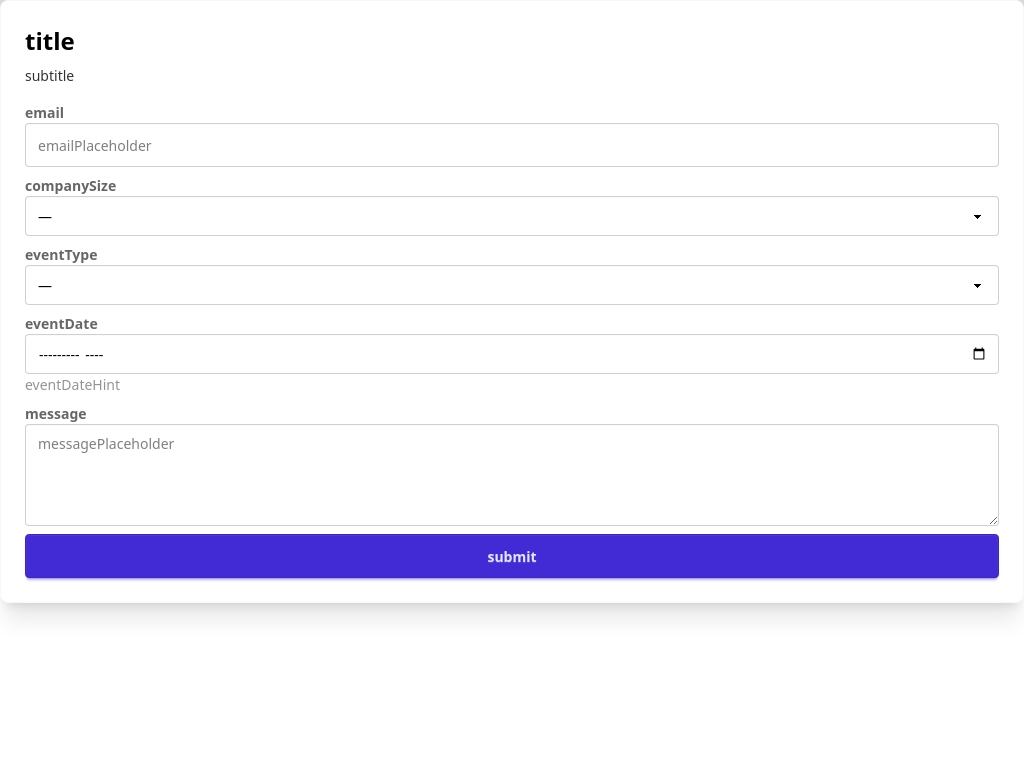
it: B2BLeadForm › shows a field error when the server rejects a missing email
Type "alice@corp.com" into the field with placeholder "emailPlaceholder". click: (512, 145)
box: [25,123,999,167]
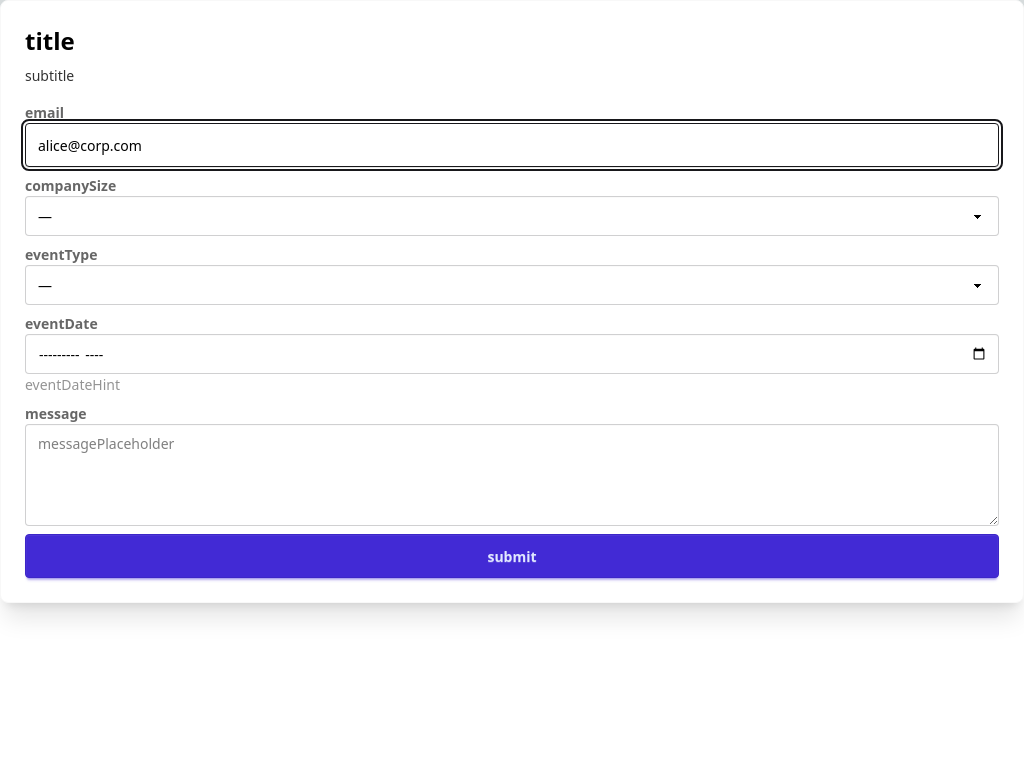
Select "companySizes.s3" in the dropdown labelled "companySize". click: (512, 216)
box: [25,196,999,236]
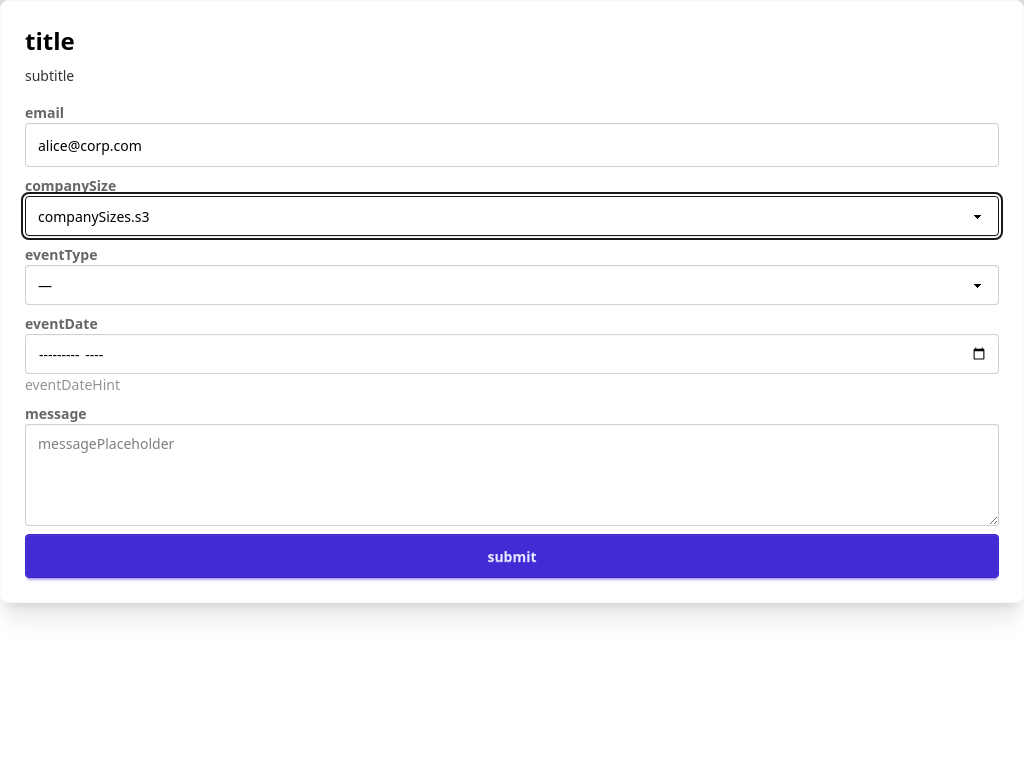
Select "eventTypes.seminar" in the dropdown labelled "eventType". click: (512, 285)
box: [25,265,999,305]
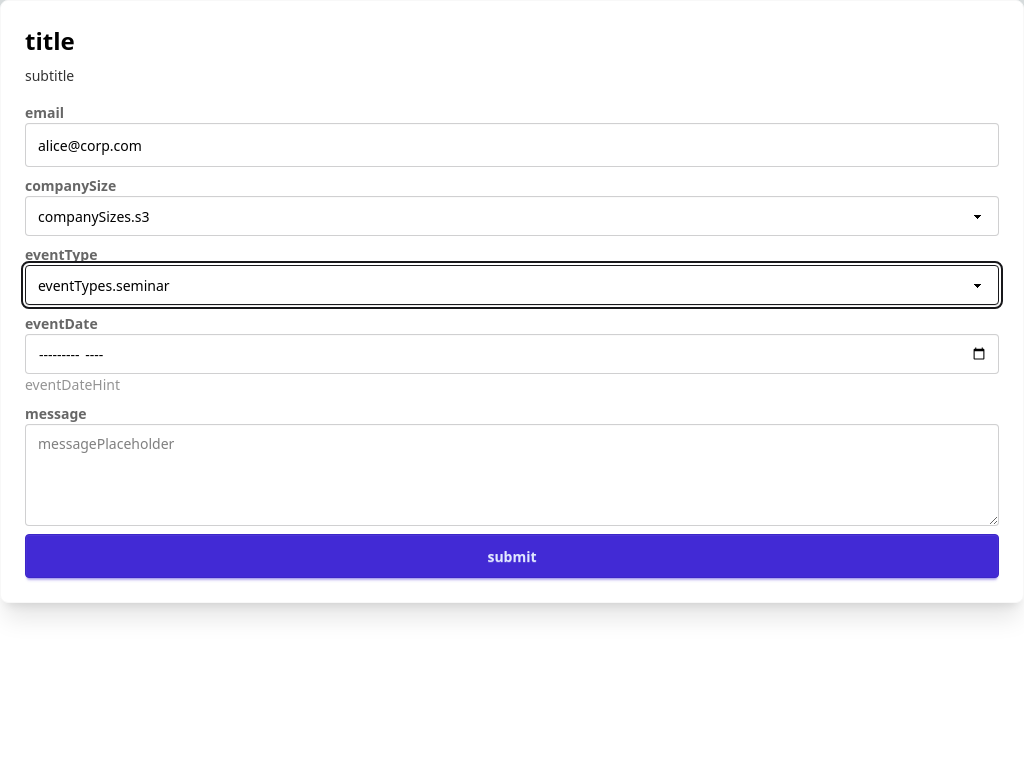
Click the button "submit". click: (512, 556)
box: [25,534,999,578]
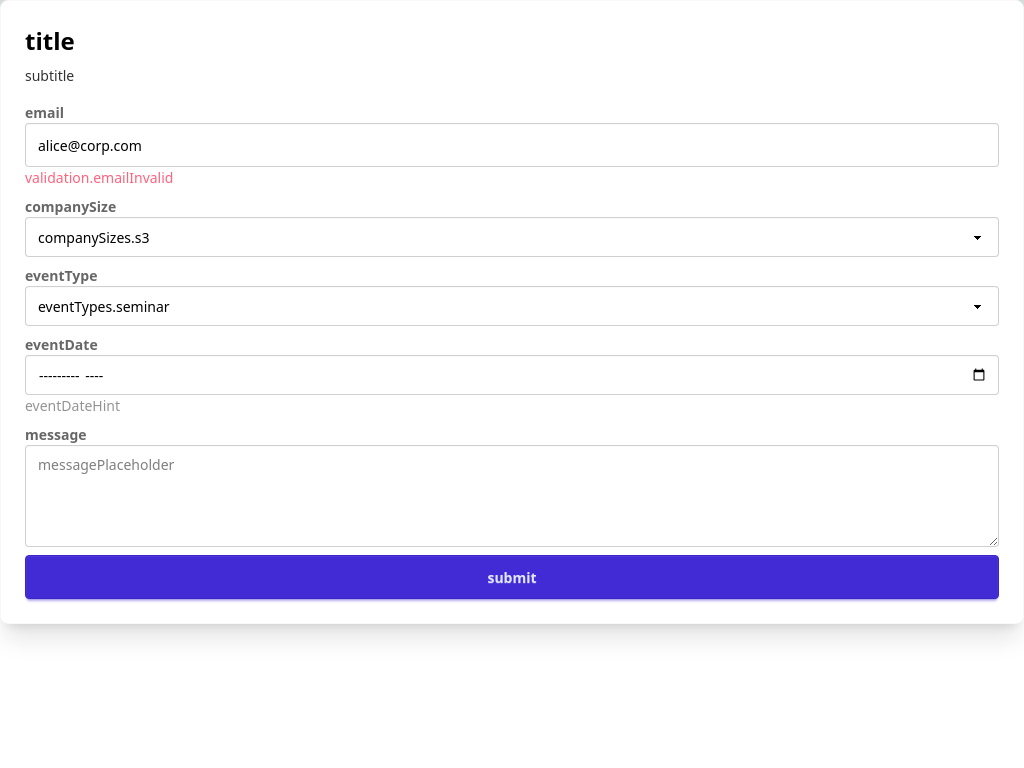
Now the text "validation.emailInvalid" is shown, box [25,167,174,188]
